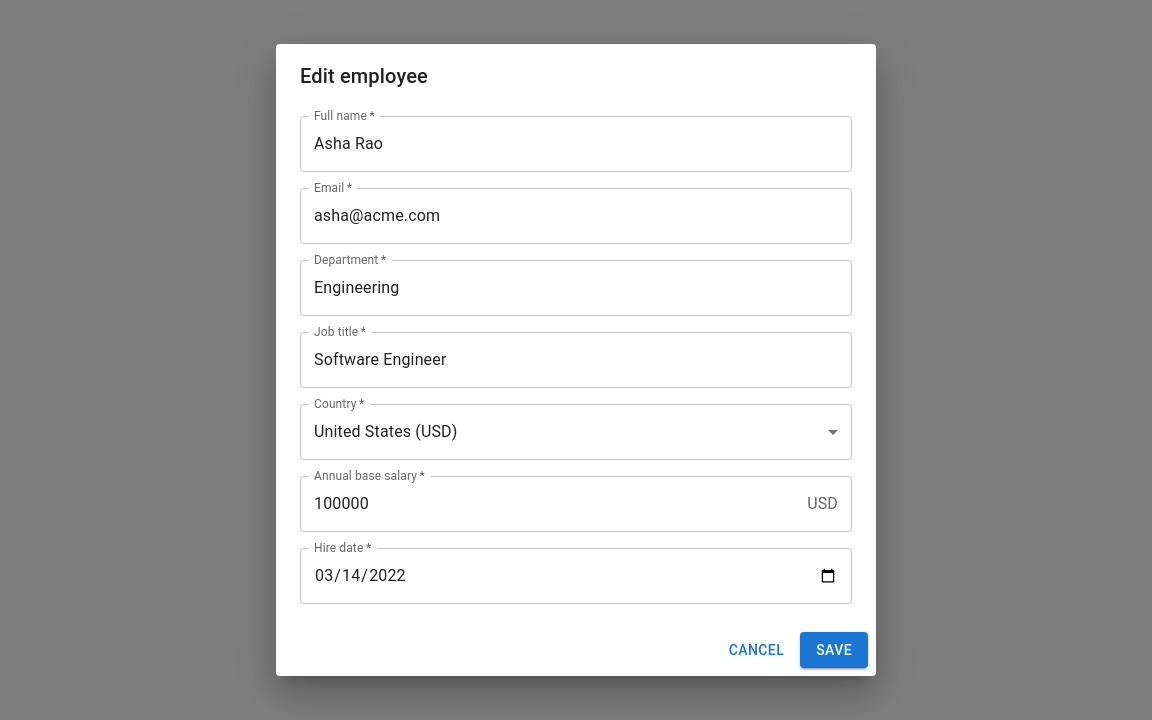
Scenario: EmployeeFormDialog › puts a duplicate-email refusal on the email field
Step 1. Click the button "Save" → (834, 650), box [800, 632, 868, 668]
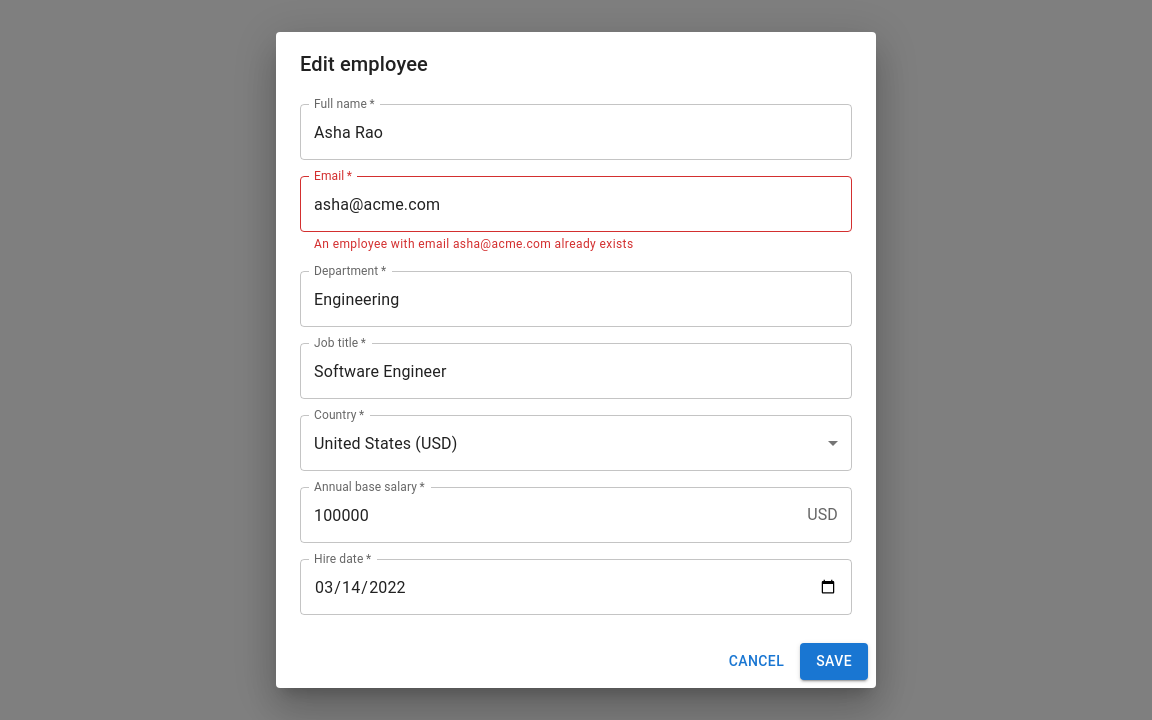
Expected: the text "An employee with email asha@acme.com already exists" is shown, [314, 237, 634, 251]
